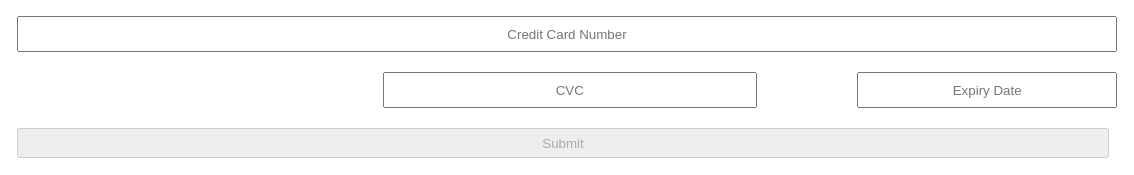
it: Credit Card Form Test › Test; Submit button is able to click
Type "1111 1111 1111 1111" into the field with placeholder "Credit Card Number" at (567, 34), box [17,16,1117,52]
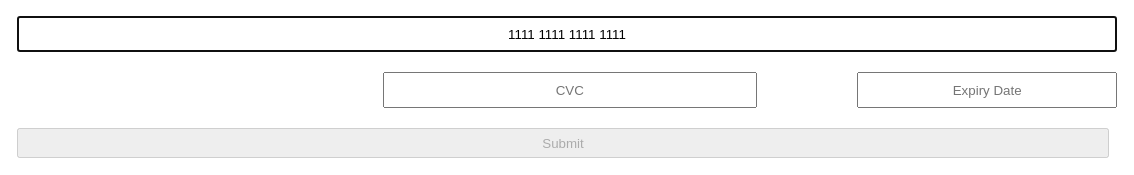
Type "111" into the field with placeholder "CVC" at (570, 90), box [383,72,757,108]
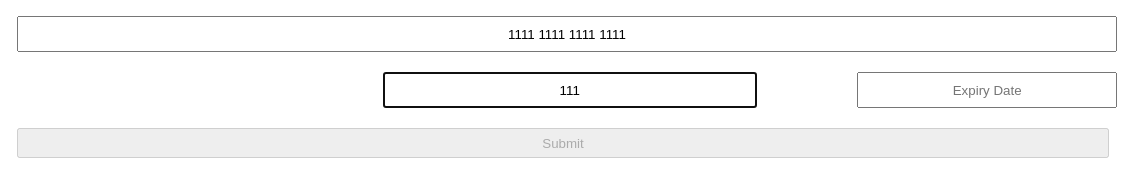
Type "11/11" into the field with placeholder "Expiry Date" at (987, 90), box [857,72,1117,108]
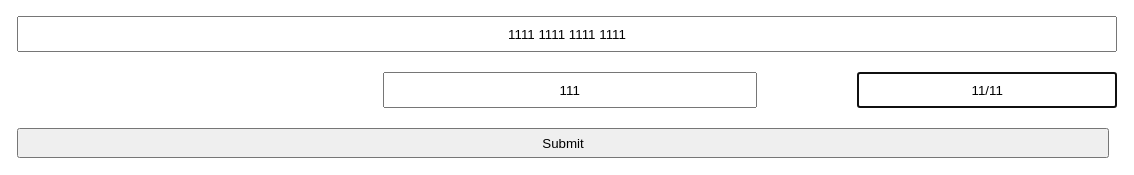
Check: the button "Submit" is enabled, box [17,128,1109,158]
